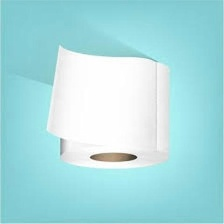tissue: (41, 39, 175, 175)
